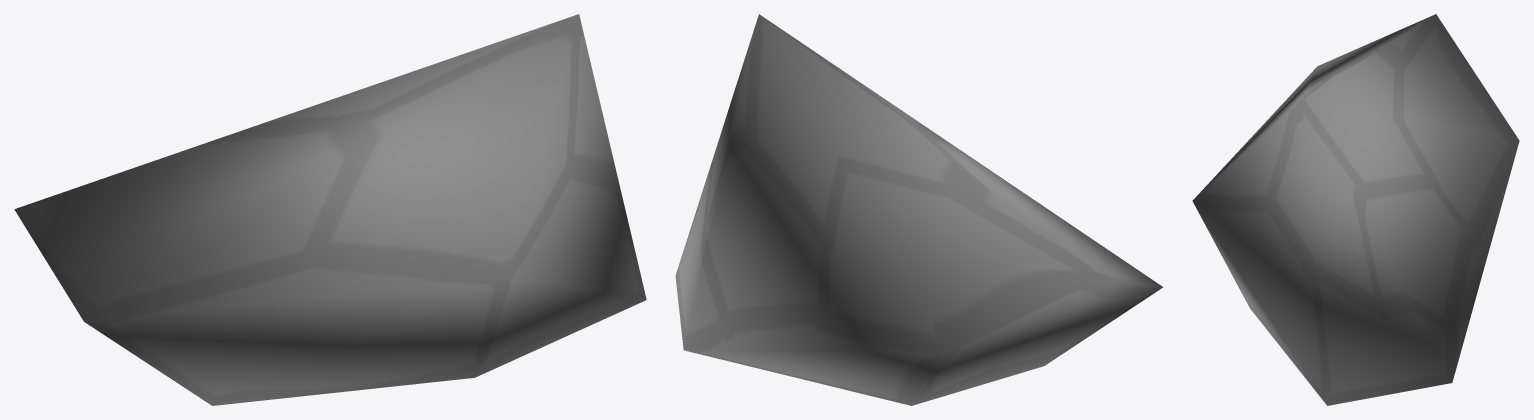
The model's file is Stone01_LP.fbx.
The picture shows the model from 3 angles, left to right: view 1: azimuth 30°, elevation 25°; view 2: azimuth 150°, elevation 25°; view 3: azimuth 270°, elevation 25°; orthographic projection. The views are drawn at different scales.
Visible parts, largest first — view 1: BigRock; view 2: BigRock; view 3: BigRock.
Part boxes in pixels (<box>): BigRock: <box>14,14,646,405</box>; BigRock: <box>675,14,1162,405</box>; BigRock: <box>1192,14,1519,405</box>.
Size of the model in its own units: 7.46 by 4.15 by 4.36.
